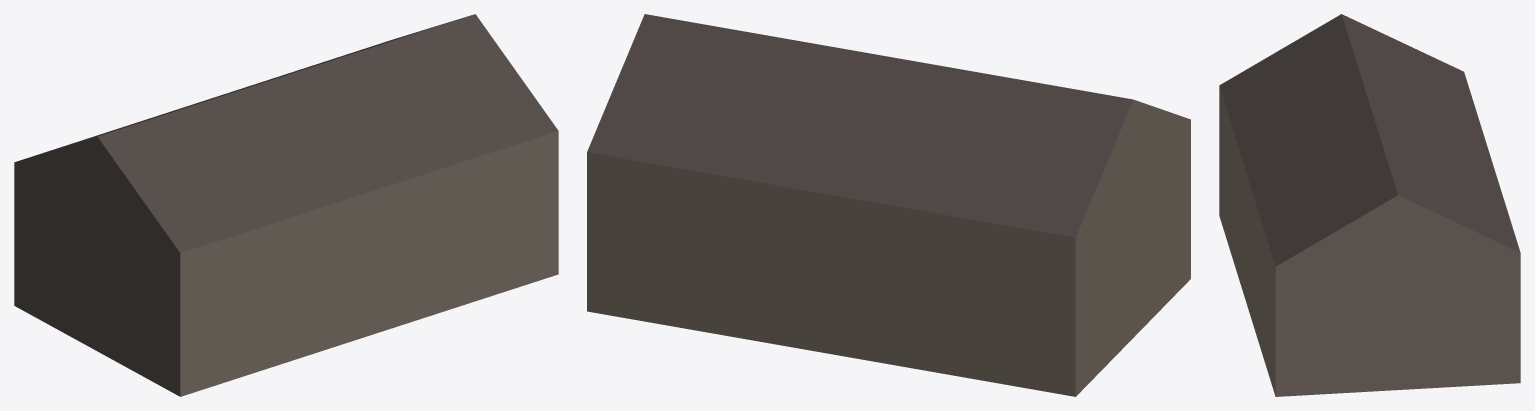
The picture shows the model from 3 angles, left to right: view 1: azimuth 30°, elevation 25°; view 2: azimuth 150°, elevation 25°; view 3: azimuth 270°, elevation 25°; orthographic projection. The views are drawn at different scales.
Parts seen in each view (by area): view 1: HP-w389701906; view 2: HP-w389701906; view 3: HP-w389701906.
Part boxes in pixels (x1=…): HP-w389701906: x1=14, y1=14, x2=558, y2=396; HP-w389701906: x1=587, y1=14, x2=1190, y2=396; HP-w389701906: x1=1219, y1=14, x2=1520, y2=396.
Size of the model in its own units: 19.27 by 8.98 by 12.58.
